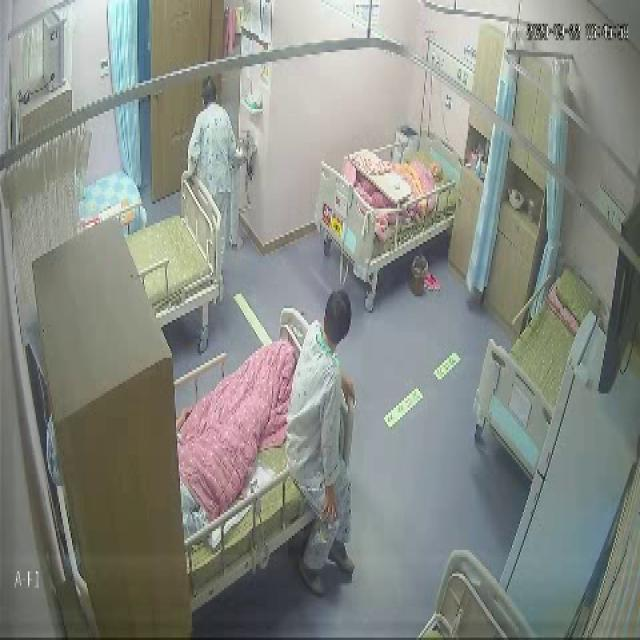bed: (174, 315, 350, 580), (474, 260, 590, 480), (315, 118, 458, 279), (130, 168, 224, 324)
patient: (283, 284, 360, 592), (187, 67, 250, 265)
sit: (284, 284, 358, 596)
